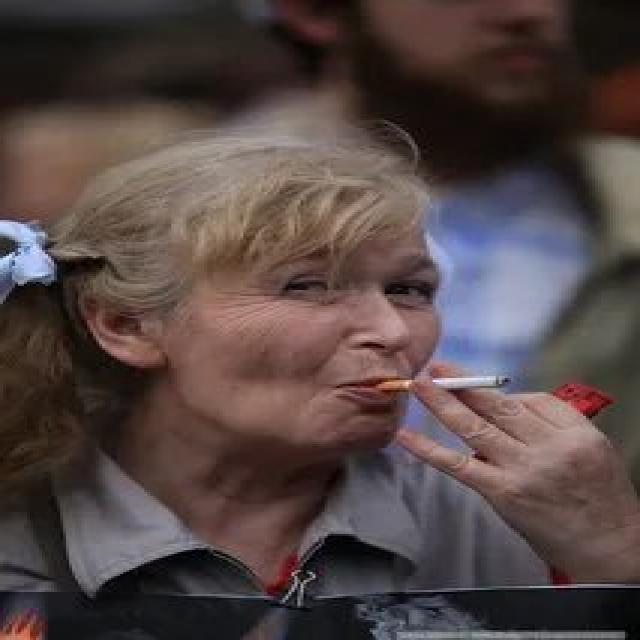smoke: (370, 374, 520, 398)
